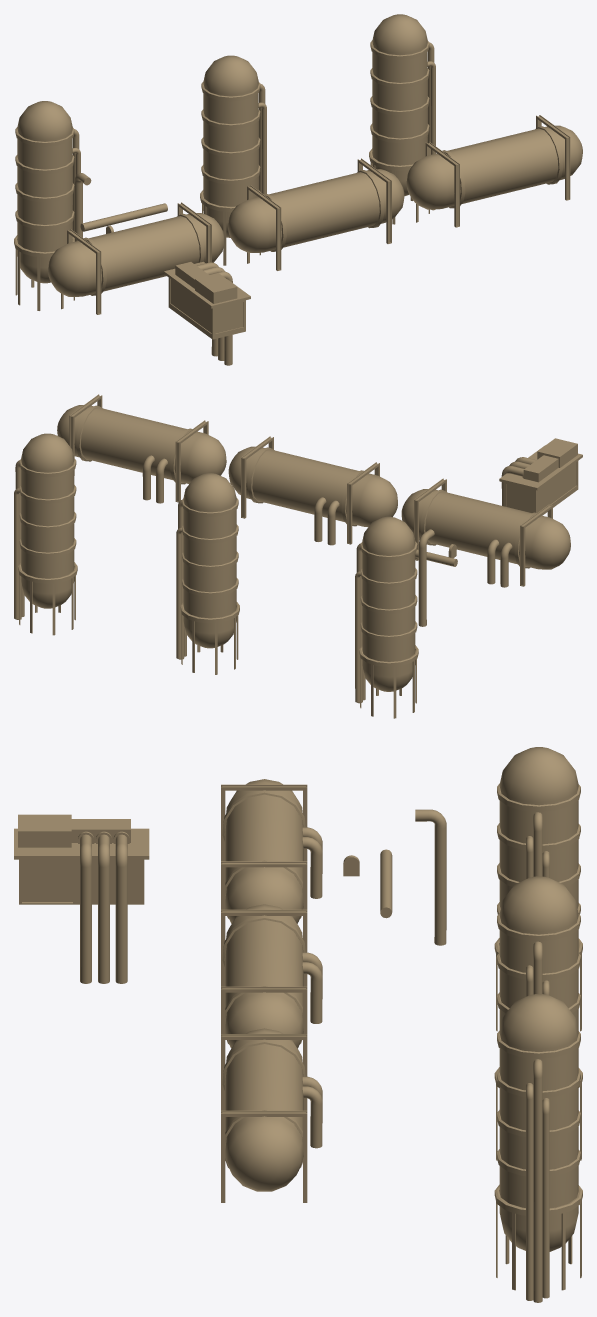
File: DamPropsCollection.fbx
The picture shows the model from 3 angles, top to bottom: view 1: azimuth 30°, elevation 25°; view 2: azimuth 150°, elevation 25°; view 3: azimuth 270°, elevation 25°; orthographic projection. The views are drawn at different scales.
Parts seen in each view (by area): view 1: TankSideThree, TankSideTwo, TankUpOne, TankSideOne, TankUpTwo, TankUpThree, Machine, PipeStraight, PipeBend; view 2: TankUpOne, TankUpThree, TankUpTwo, TankSideTwo, TankSideOne, TankSideThree, Machine, PipeBend; view 3: TankUpThree, Machine, TankSideThree, TankSideOne, TankSideTwo, TankUpOne, TankUpTwo, PipeBend, PipeStraight.
Boxes of the visible parts, x1,y1,x2,y2 form: TankSideThree: (406,115,582,227); TankSideTwo: (228,158,404,270); TankUpOne: (14,101,80,310); TankSideOne: (48,202,224,314); TankUpTwo: (200,55,266,265); TankUpThree: (369,14,435,224); Machine: (164,261,250,365); PipeStraight: (80,203,167,231); PipeBend: (74,173,91,241); TankUpOne: (355,516,418,718); TankUpThree: (14,433,77,635); TankUpTwo: (176,473,239,674); TankSideTwo: (228,436,397,545); TankSideOne: (401,478,570,587); TankSideThree: (57,394,226,503); Machine: (499,438,582,515); PipeBend: (418,529,434,626); TankUpThree: (494,994,582,1302); Machine: (14,814,149,983); TankSideThree: (221,1028,322,1202); TankSideOne: (221,779,322,923); TankSideTwo: (221,904,322,1048); TankUpOne: (494,747,582,1031); TankUpTwo: (494,876,582,1160); PipeBend: (415,809,446,945); PipeStraight: (380,849,392,918).
Bounding box in the file's own units: 40.98 × 14.69 × 26.84.
